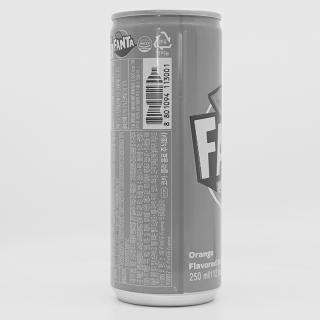alumunium_can: (106, 5, 232, 312)
